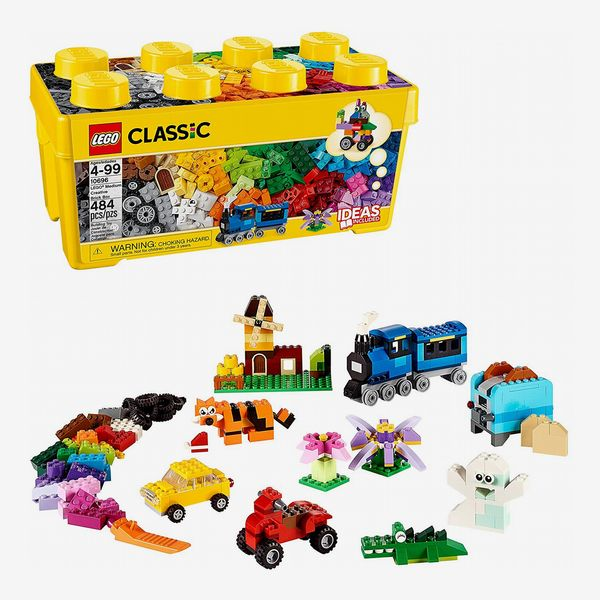toy: (27, 377, 490, 568)
